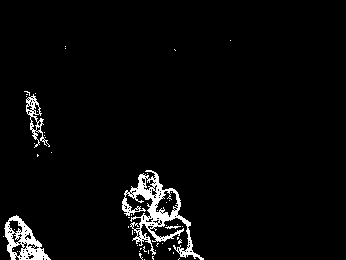person: (137, 188, 203, 260), (22, 89, 53, 156)
